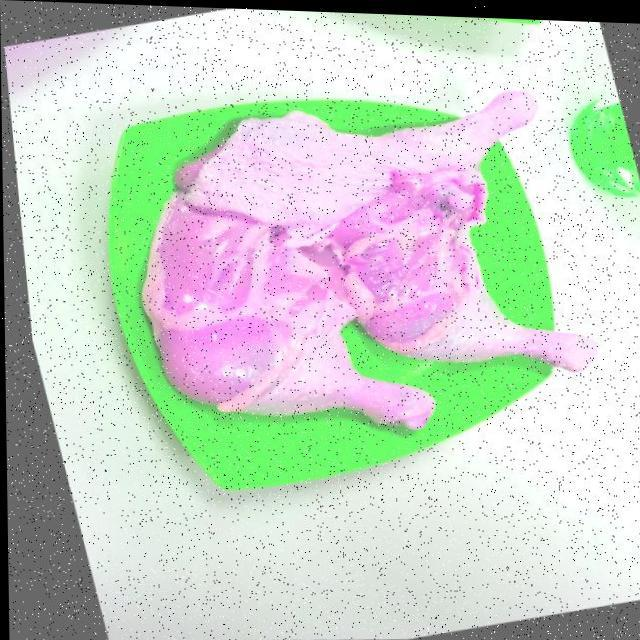quater: (146, 202, 428, 442), (356, 162, 594, 374), (172, 74, 550, 202)
